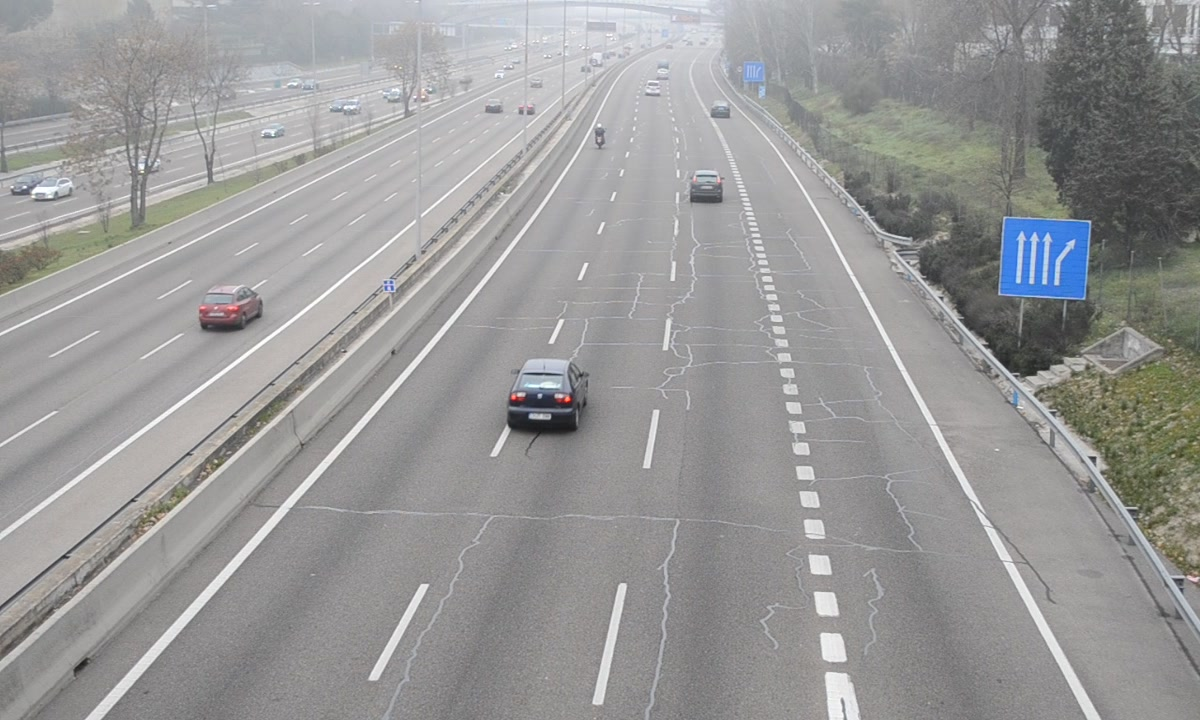car: (506, 356, 588, 431), (687, 168, 724, 205), (710, 101, 730, 119)
motorcycle: (592, 124, 605, 154)
